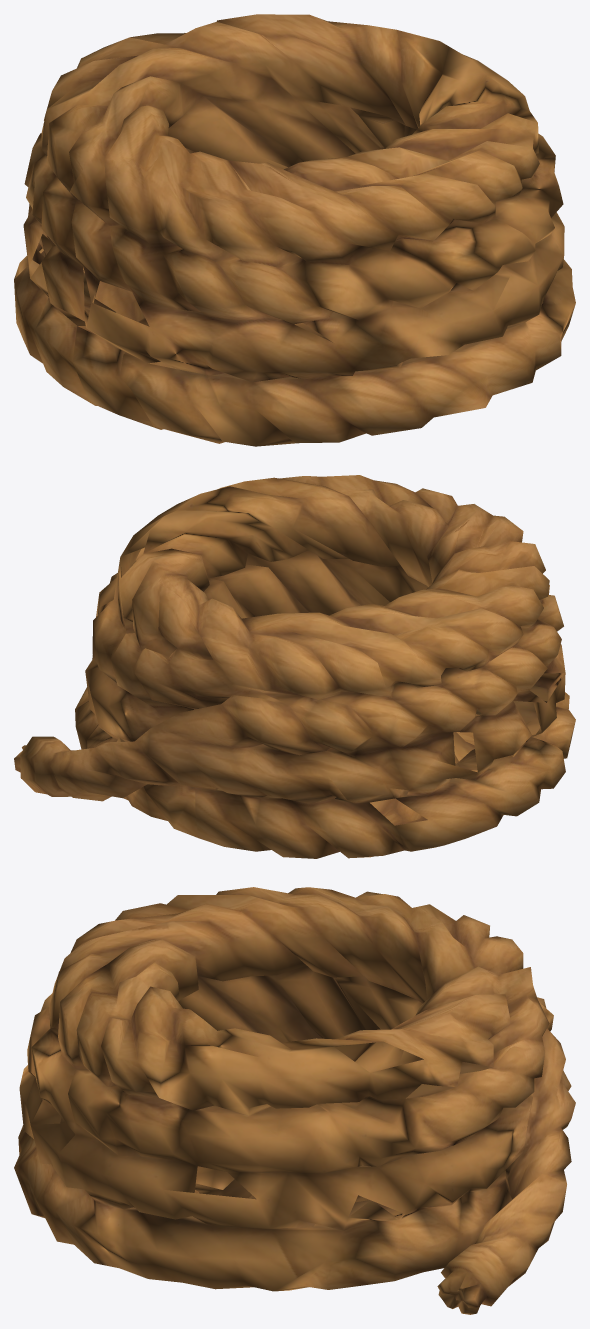
Rendered from SM_Env_Rope.fbx.
3 renders of one model, top to bottom at view 1: azimuth 30°, elevation 25°; view 2: azimuth 150°, elevation 25°; view 3: azimuth 270°, elevation 25°, orthographic. The views are drawn at different scales.
Visible parts, largest first — view 1: SM_Env_Rope; view 2: SM_Env_Rope; view 3: SM_Env_Rope.
Boxes of the visible parts, box(x1,y1,x2,y2) form: SM_Env_Rope: box(14, 14, 575, 446); SM_Env_Rope: box(14, 475, 575, 858); SM_Env_Rope: box(14, 887, 575, 1314).
Bounding box in the file's own units: 21.31 × 22 × 10.46.
1 material, 1 textured.
